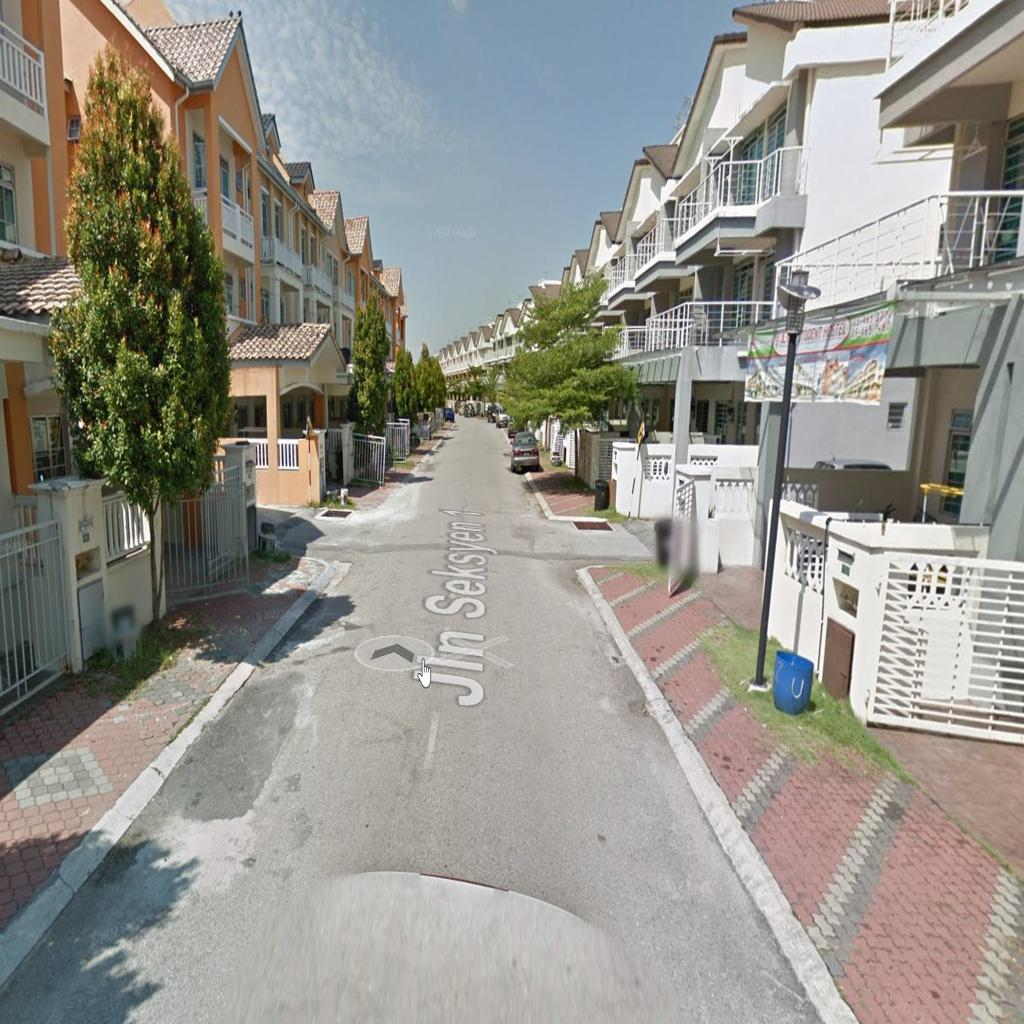Junction: (522, 476, 669, 602), (255, 463, 350, 565)
